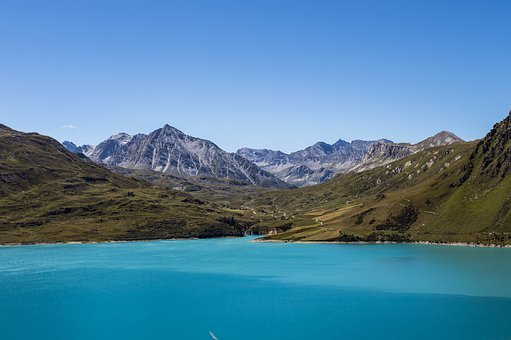lake: (5, 247, 511, 340)
mountain: (4, 117, 511, 255)
sky: (3, 5, 499, 121)
